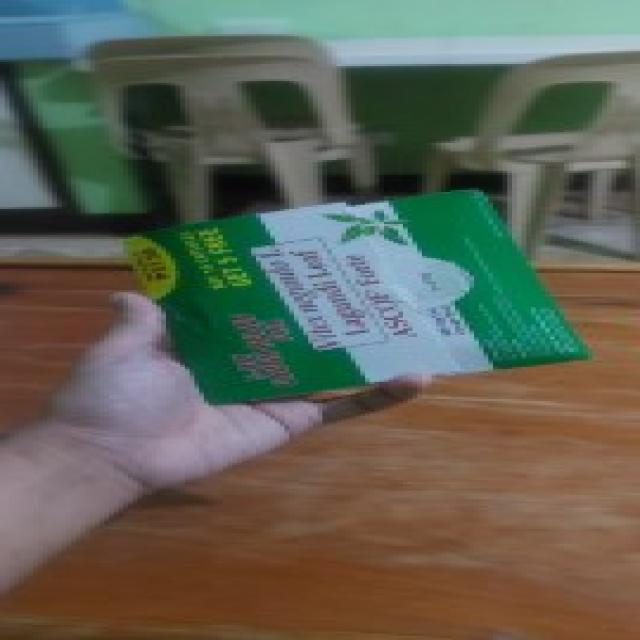Cacat: (114, 192, 588, 402)
